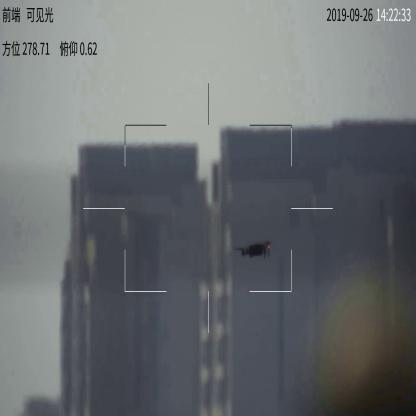uav: (226, 236, 269, 262)
